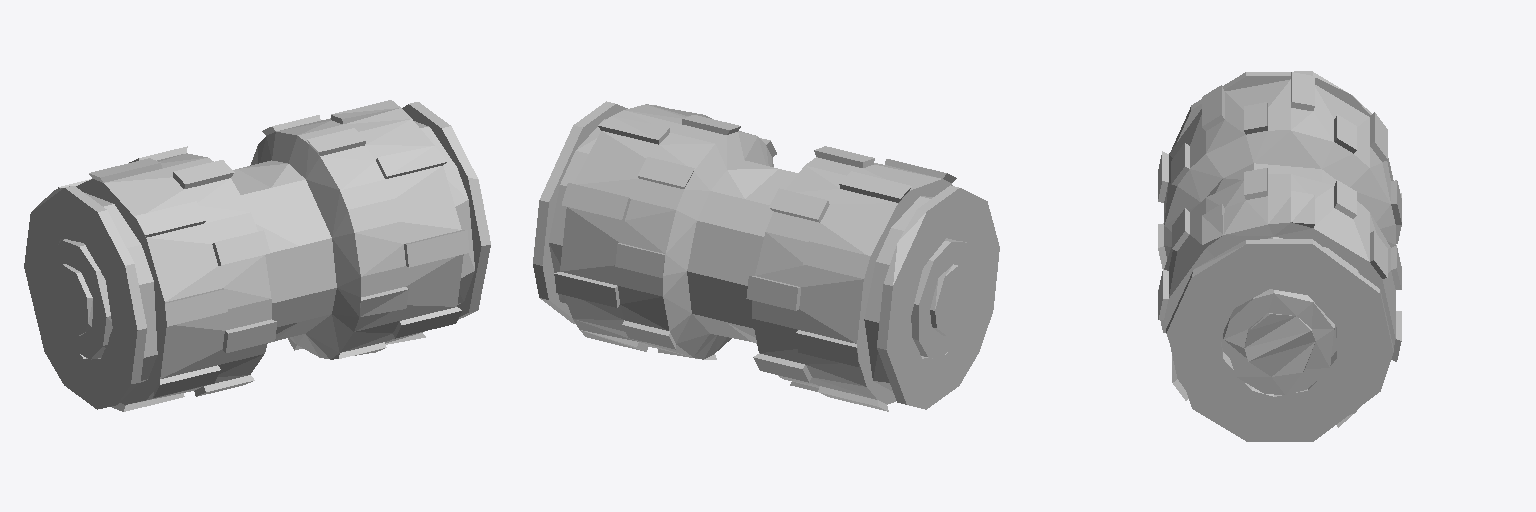
The model's file is Kola_000004.obj.
3 views of the same model, side by side, from view 1: azimuth 30°, elevation 25°; view 2: azimuth 150°, elevation 25°; view 3: azimuth 270°, elevation 25° (orthographic).
Visible parts, largest first — view 1: Cylinder.004; view 2: Cylinder.004; view 3: Cylinder.004.
Boxes of the visible parts, <box> form: Cylinder.004: <box>24,100,490,411</box>; Cylinder.004: <box>533,101,999,411</box>; Cylinder.004: <box>1158,71,1401,441</box>.
Size of the model in its own units: 2.17 by 1.24 by 1.24.